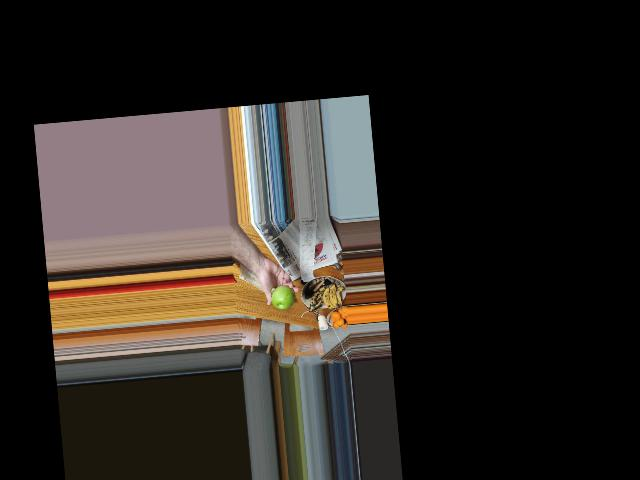apple: (270, 285, 295, 311)
